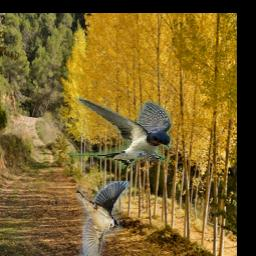Sparrow: (76, 181, 131, 256)
Swallow: (67, 97, 171, 170)
